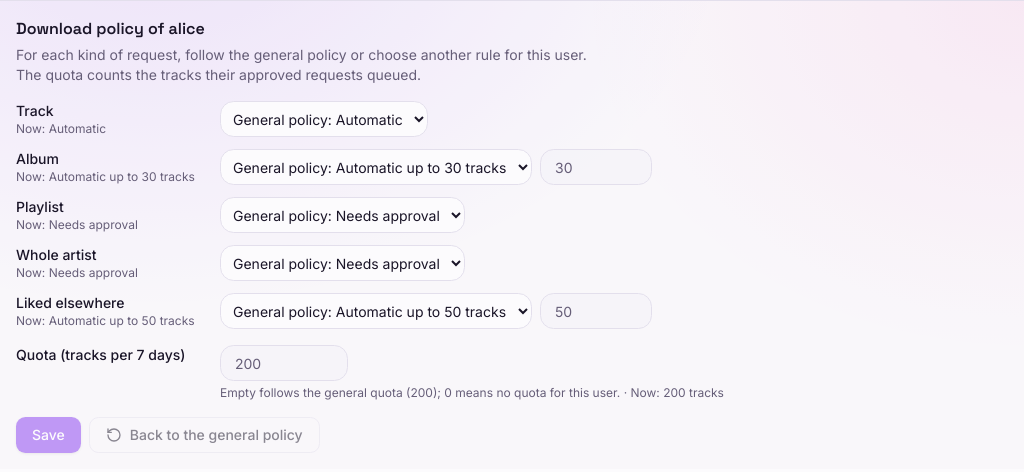
Test: a user's download policy › a threshold below 1 or a negative or fractional quota cannot be saved
The image size is (1024, 472).
Type "0" into the number field with placeholder "30" at (596, 167), box [540,149,652,185]
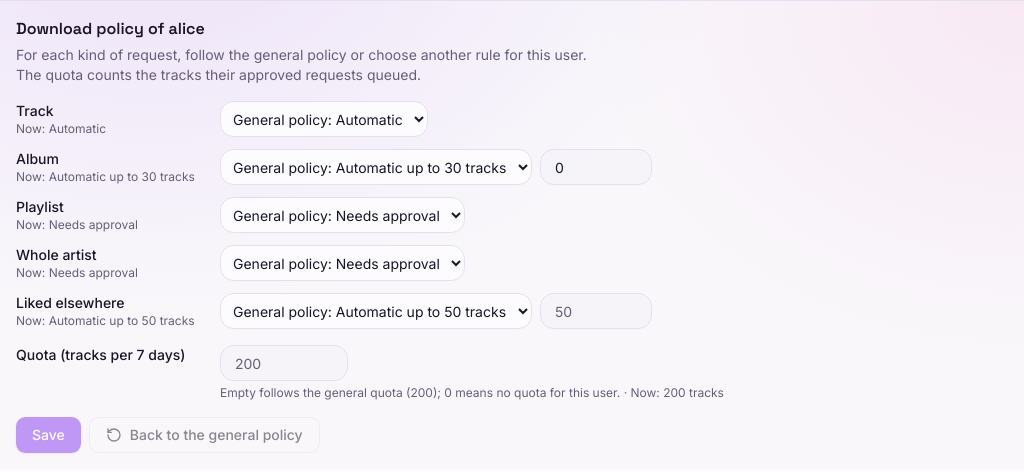
Expected: the button "Save" is disabled, [16,417,81,453]
Clear the number field named "Tracks that start at once for Album requests" at (596, 167), box [540,149,652,185]
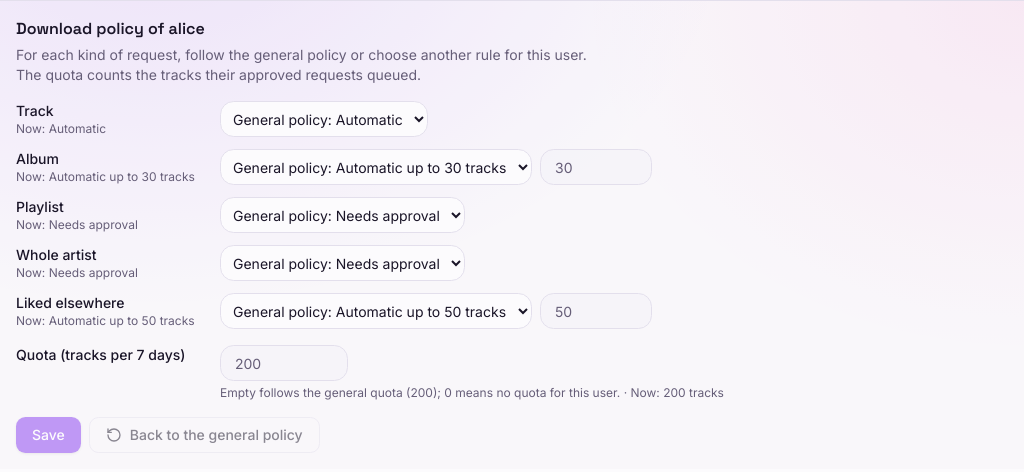
Type "-1" into the number field labelled "Quota (tracks per 7 days)" at (284, 363), box [220,345,348,381]
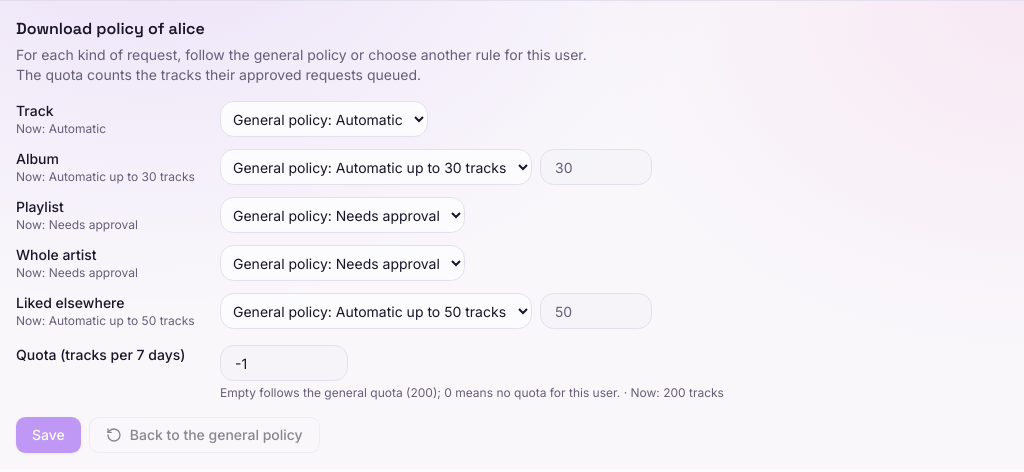
Expected: the button "Save" is disabled, [16,417,81,453]
Replace the text in the number field labelled "Quota (tracks per 7 days)" with "2.5" at (284, 363), box [220,345,348,381]
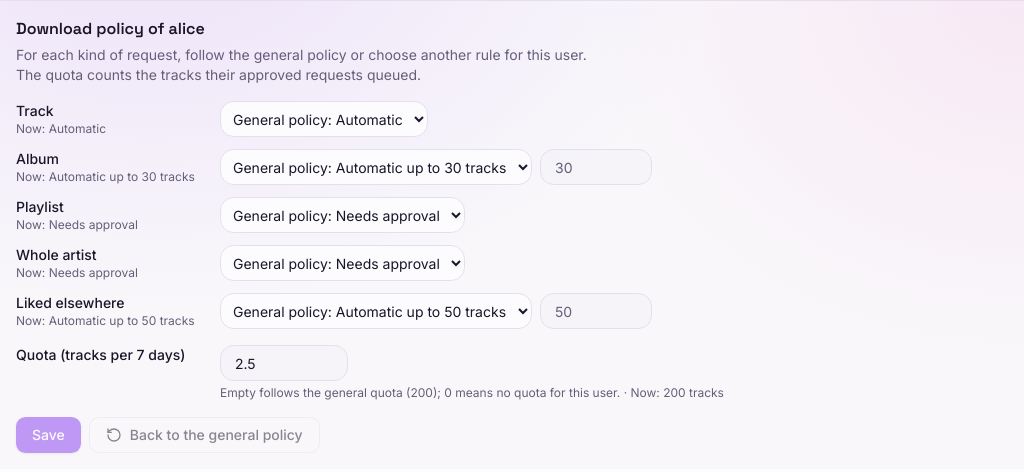
Expected: the button "Save" is disabled, [16,417,81,453]
Replace the text in the number field labelled "Quota (tracks per 7 days)" with "5" at (284, 363), box [220,345,348,381]
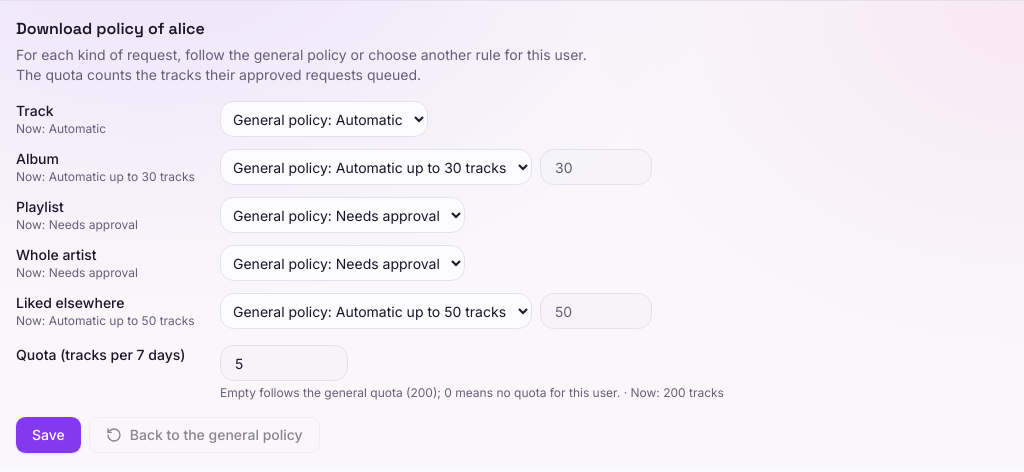
Result: the button "Save" is enabled at [16,417,81,453]
